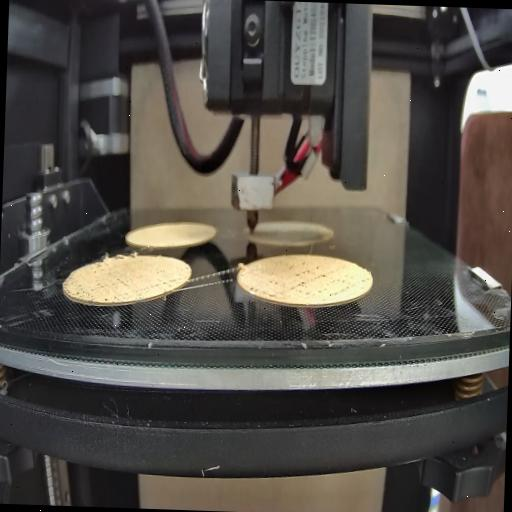under_extrusion: (290, 262, 354, 300), (76, 266, 132, 302), (147, 272, 184, 292), (248, 276, 280, 298)
